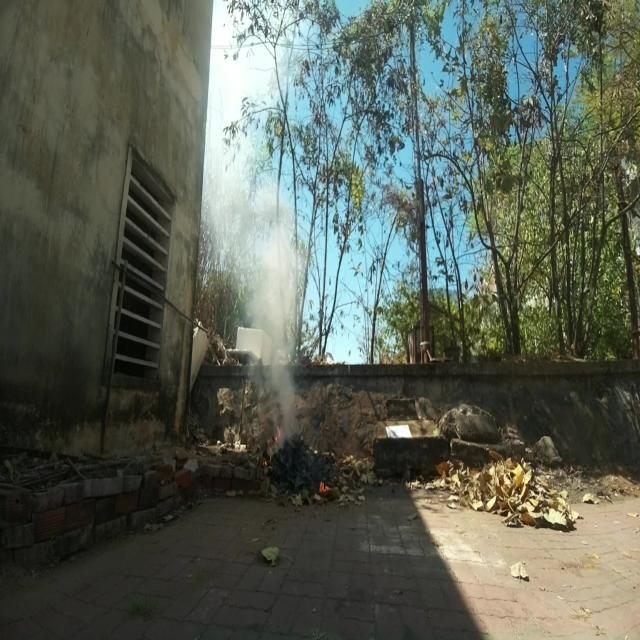Fire: (262, 412, 287, 460), (318, 480, 332, 498)
Smoke: (222, 162, 300, 464)
